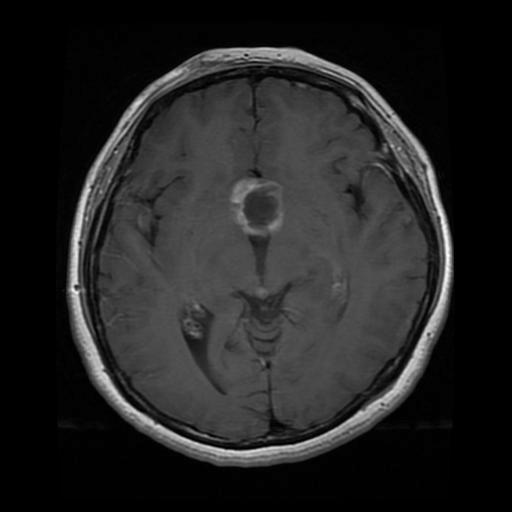Tumour-Pituitary: (227, 180, 287, 242)
